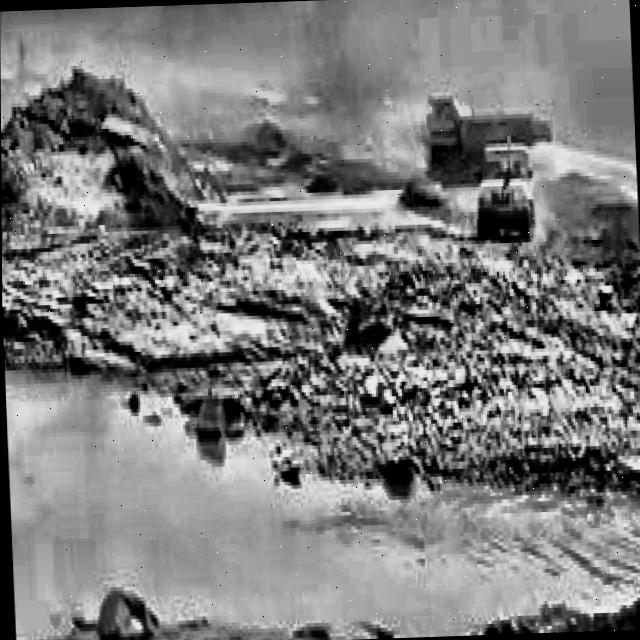light_vehicle: (475, 140, 541, 250)
